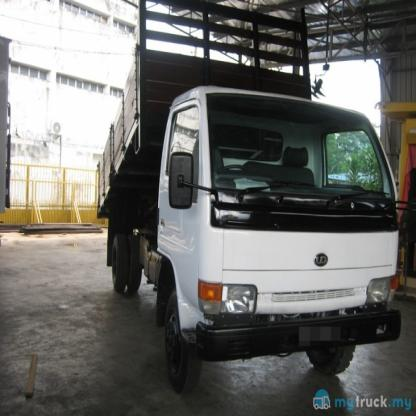dump_truck: (86, 2, 415, 391)
